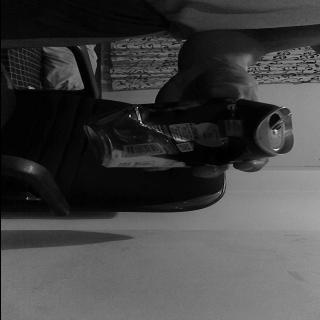alumunium_can: (83, 98, 293, 170)
